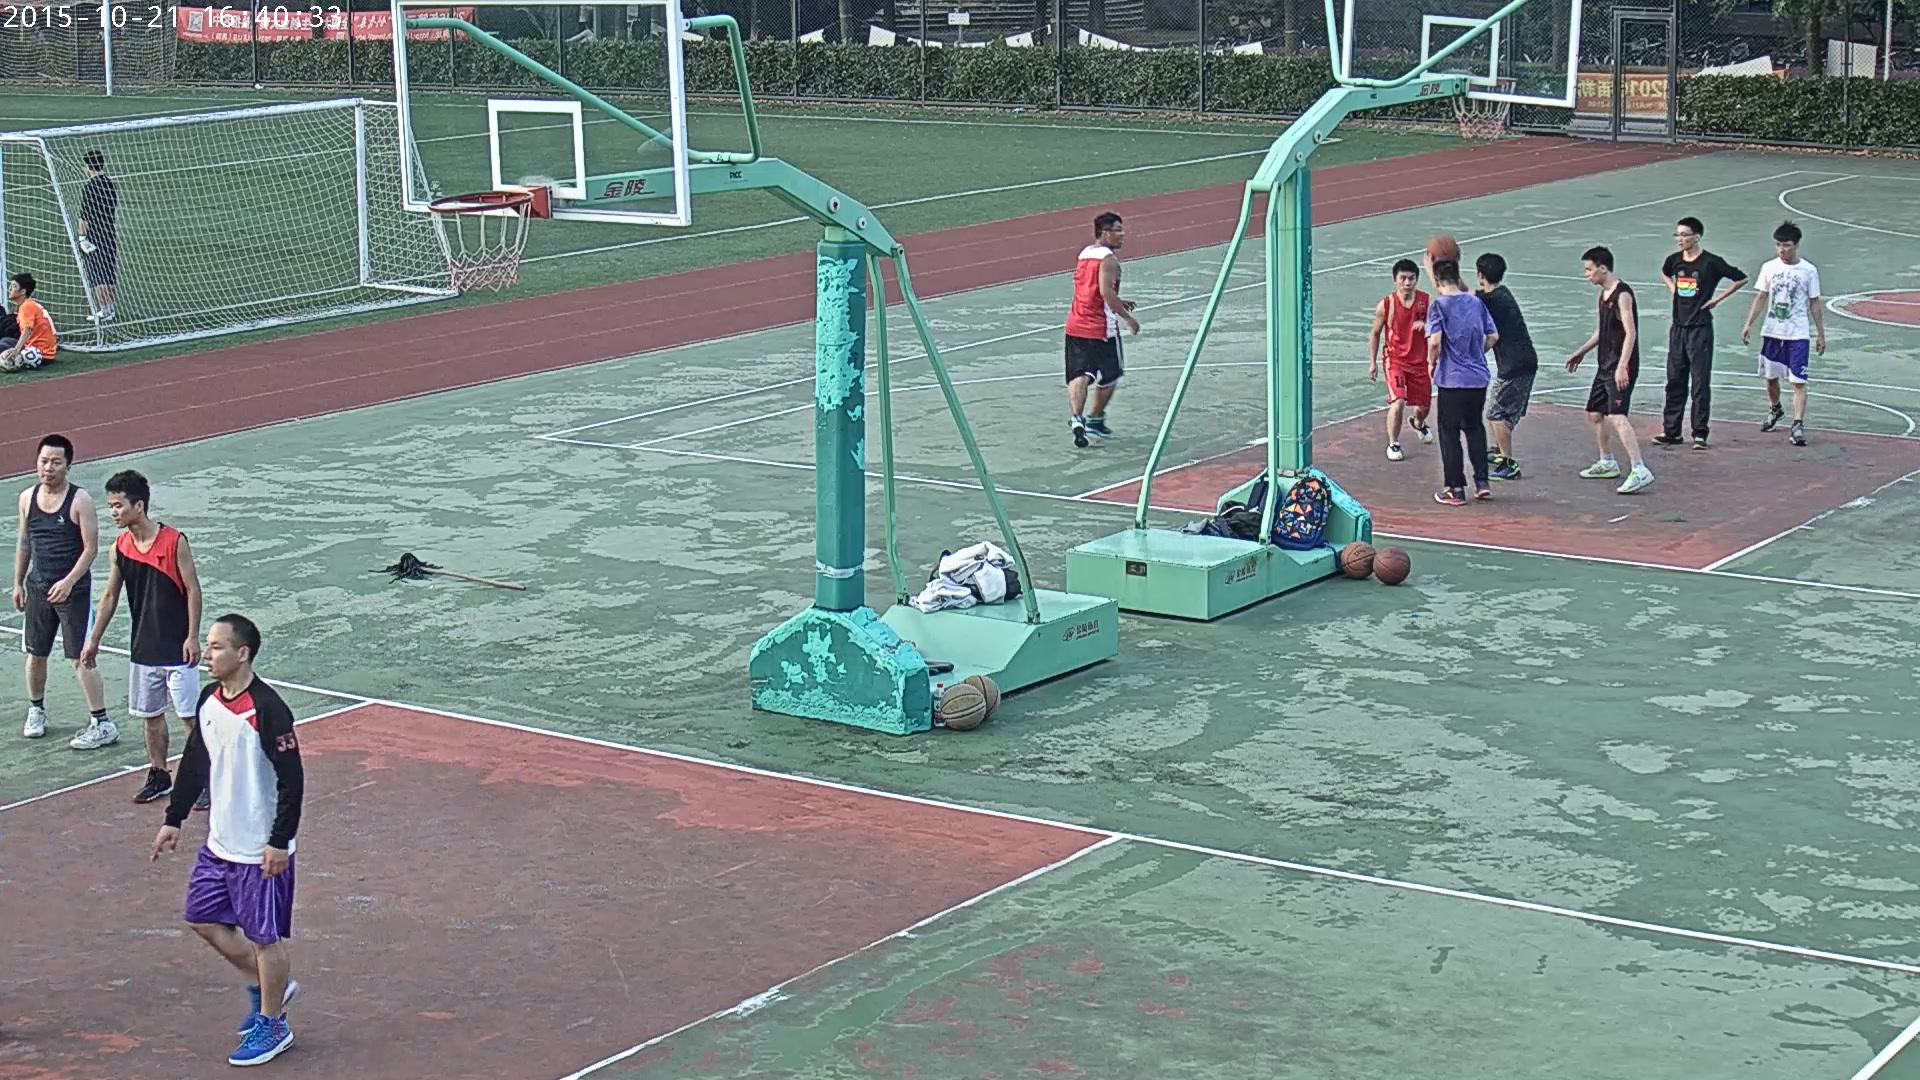face: (203, 620, 235, 678), (38, 444, 66, 484), (110, 494, 135, 527), (1676, 224, 1694, 249), (1583, 258, 1600, 285), (1397, 271, 1416, 294), (1775, 239, 1795, 260), (1109, 220, 1124, 246), (7, 278, 20, 298), (1476, 270, 1482, 285)
